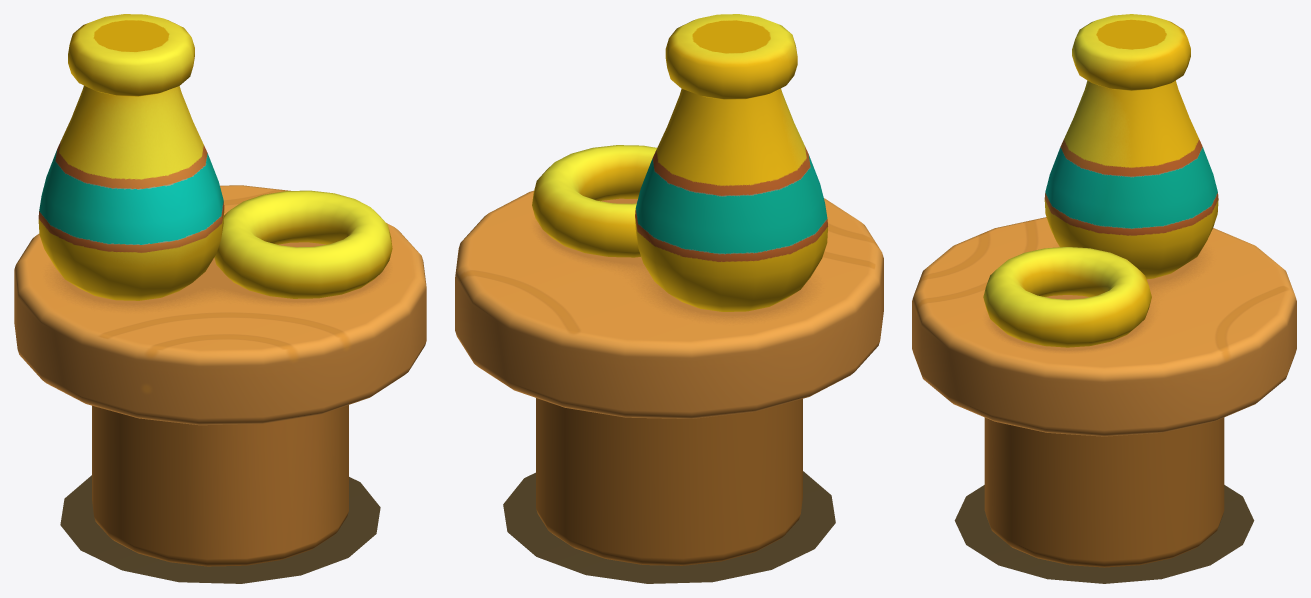
Rendered from SmallTable.fbx.
3 renders of one model, left to right at view 1: azimuth 30°, elevation 25°; view 2: azimuth 150°, elevation 25°; view 3: azimuth 270°, elevation 25°, orthographic. The views are drawn at different scales.
Visible parts, largest first — view 1: group62_pCylinder76, pCylinder74, pTorus13, shadow11; view 2: group62_pCylinder76, pCylinder74, pTorus13, shadow11; view 3: group62_pCylinder76, pCylinder74, pTorus13, shadow11.
Boxes of the visible parts, <box> form: group62_pCylinder76: <box>14,185,426,566</box>; pCylinder74: <box>38,14,224,300</box>; pTorus13: <box>214,190,392,298</box>; shadow11: <box>60,475,380,583</box>; group62_pCylinder76: <box>455,190,883,565</box>; pCylinder74: <box>635,14,827,311</box>; pTorus13: <box>532,145,656,257</box>; shadow11: <box>503,471,835,583</box>; group62_pCylinder76: <box>912,217,1296,567</box>; pCylinder74: <box>1044,14,1218,279</box>; pTorus13: <box>983,247,1151,347</box>; shadow11: <box>954,485,1254,583</box>.
Bounding box in the file's own units: 106 × 138 × 106.
